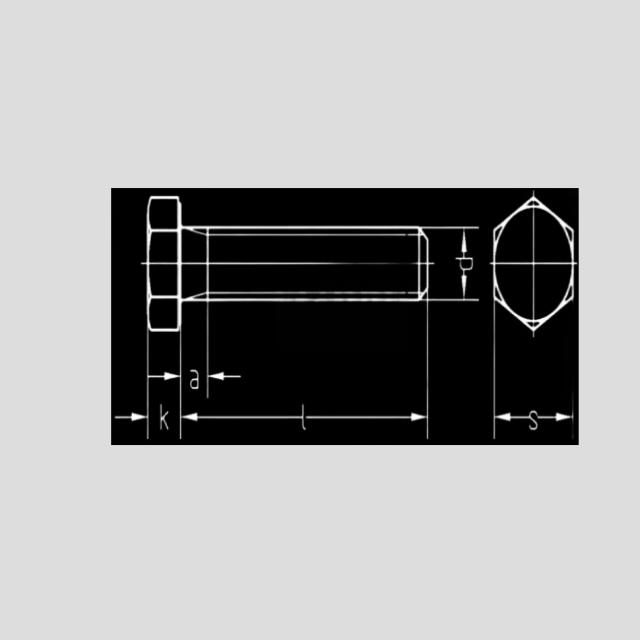marking_line: (183, 407, 426, 432), (536, 408, 572, 426), (208, 368, 243, 385), (144, 370, 179, 386), (113, 411, 146, 427), (499, 413, 530, 428), (458, 230, 474, 256), (458, 273, 474, 297)
